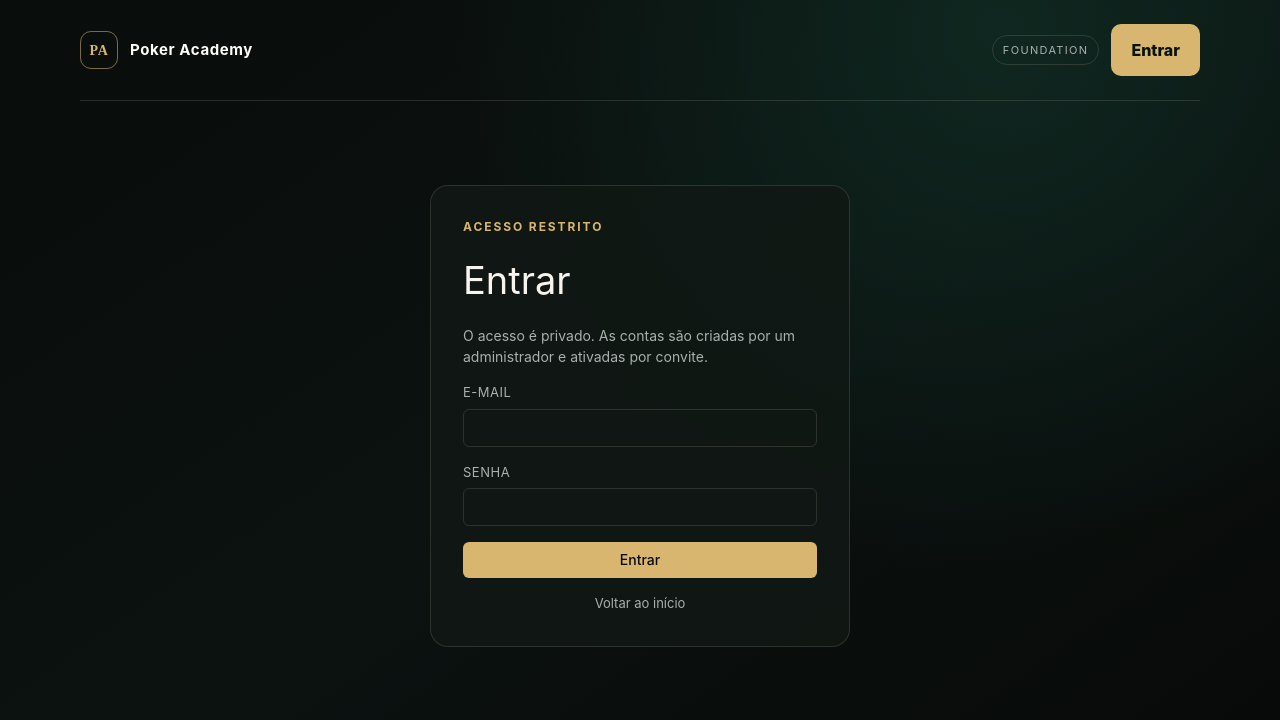
Scenario: application shell › shows a generic error on invalid credentials without leaking details
Type "nobody@example.com" into the field labelled "E-mail" at (640, 428), box [463,409,817,447]
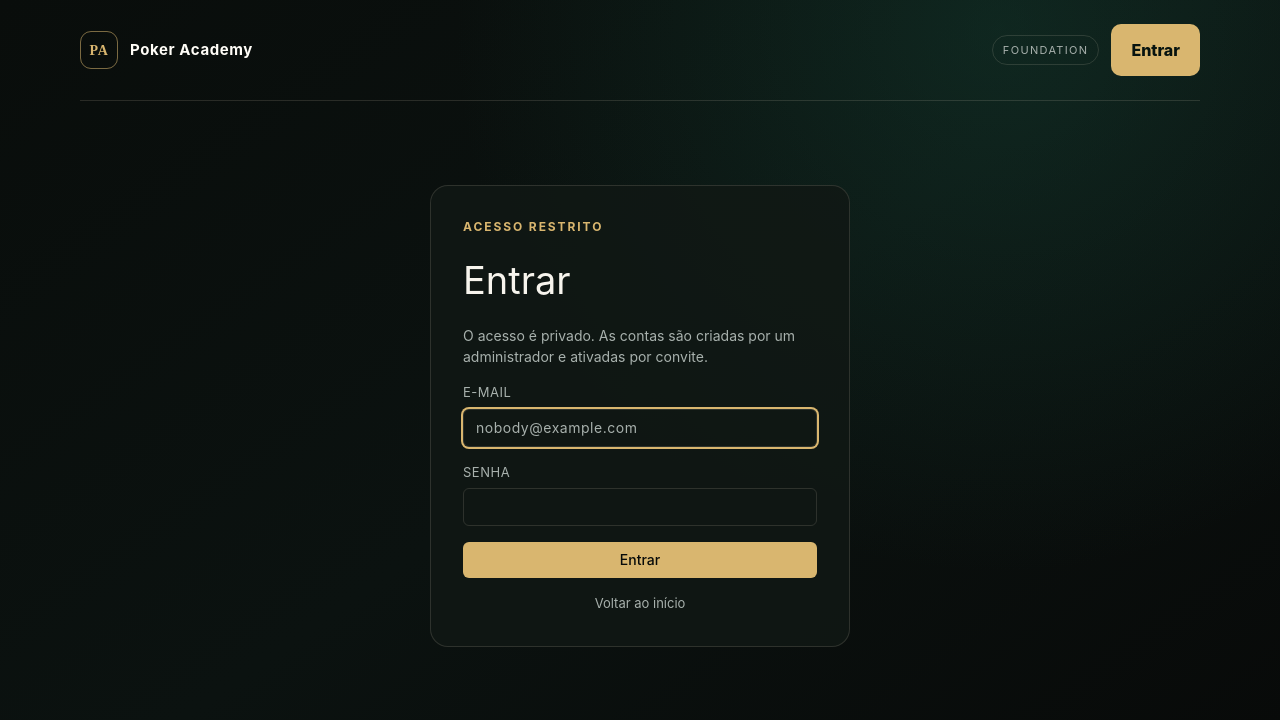
Type "wrong password" into the password field labelled "Senha" at (640, 507), box [463,488,817,526]
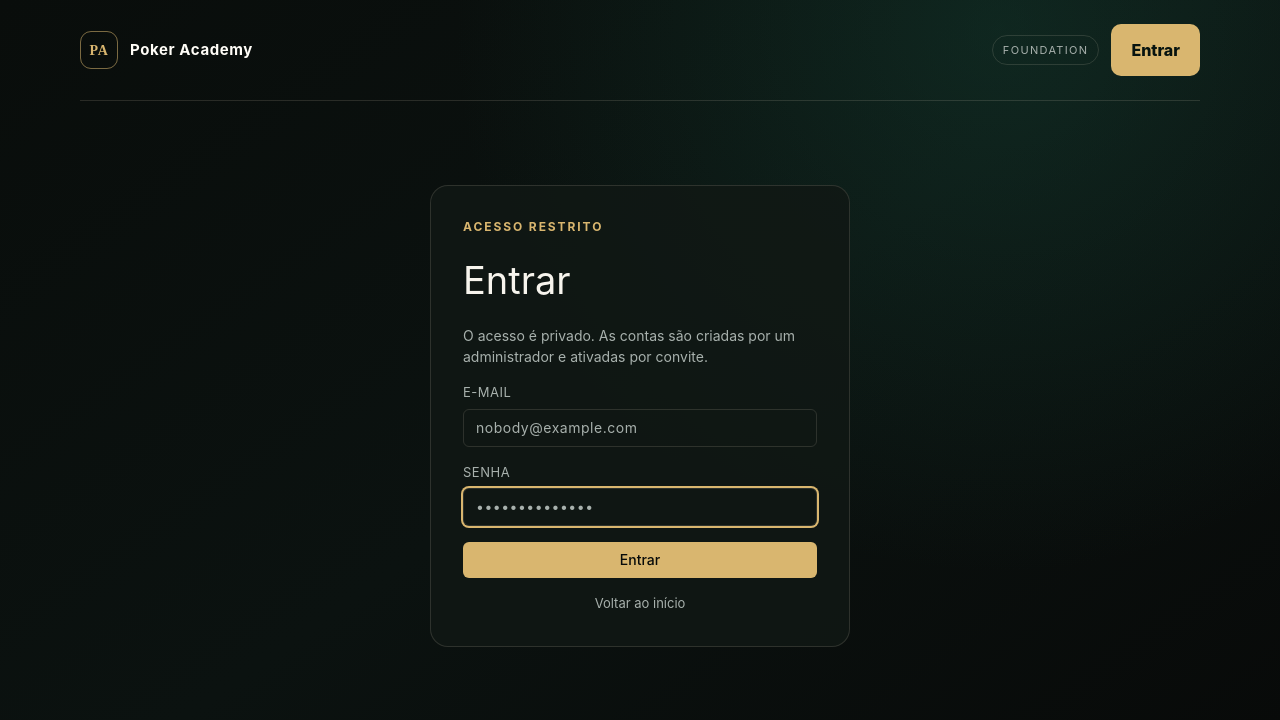
Click the button "Entrar" at (640, 560), box [463,542,817,578]
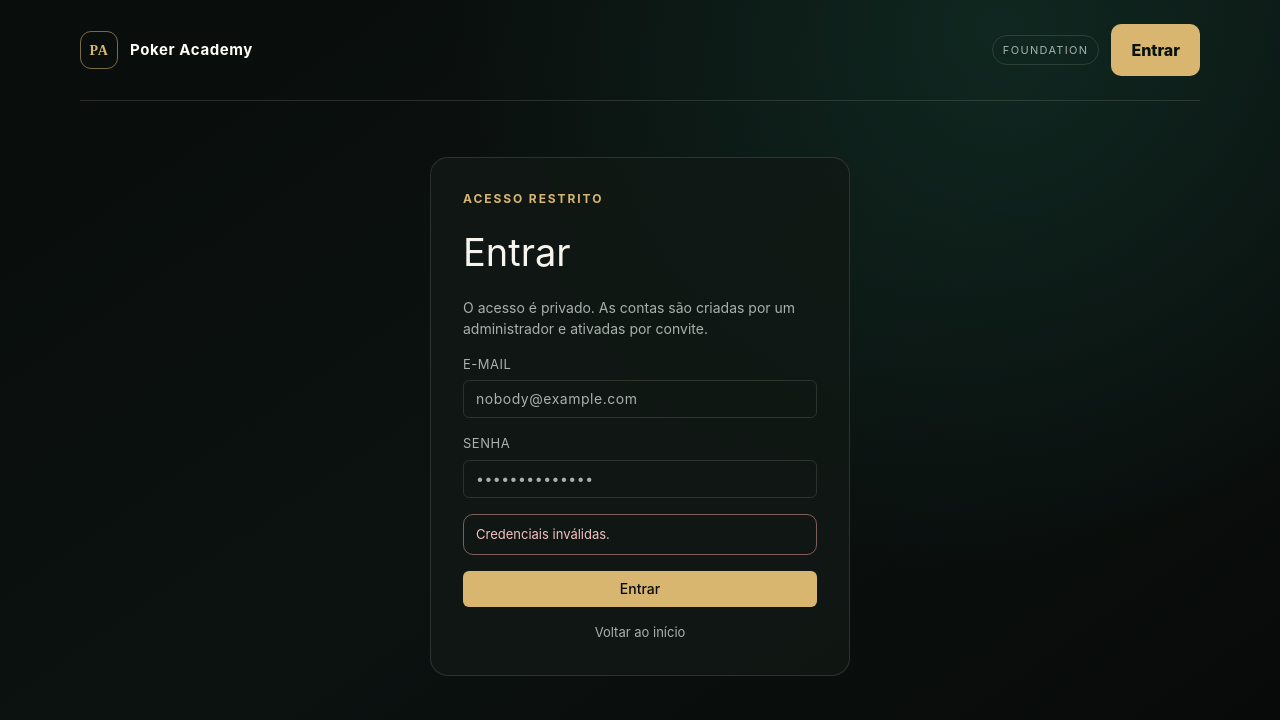
Result: the text "Credenciais inválidas." is shown at [463,514,817,555]
